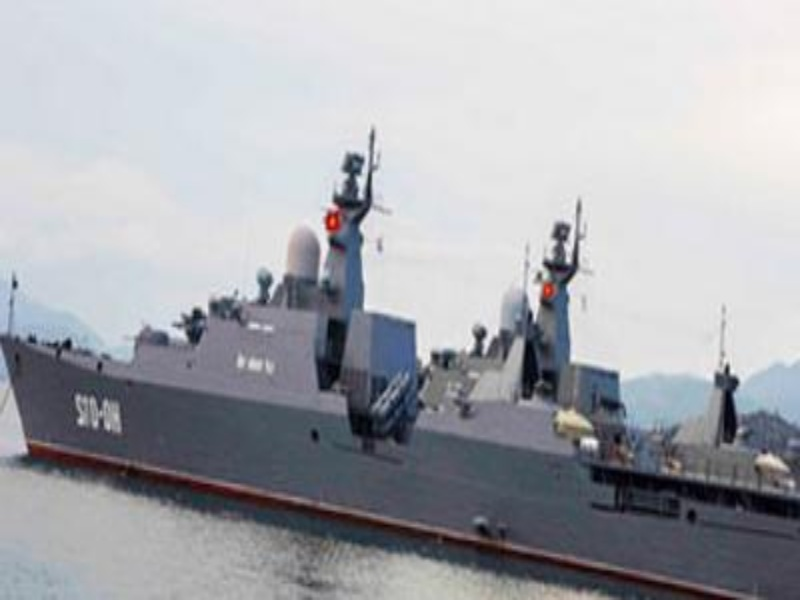cruise: (7, 195, 795, 591)
